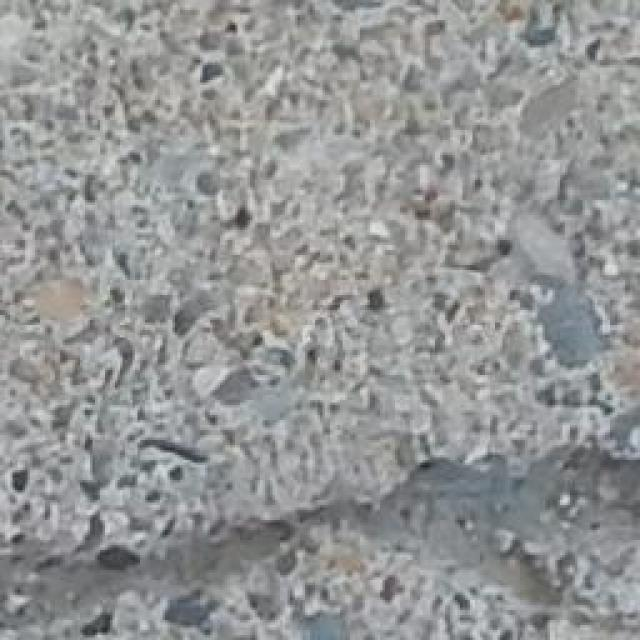concrete-crack: (0, 401, 640, 640)
